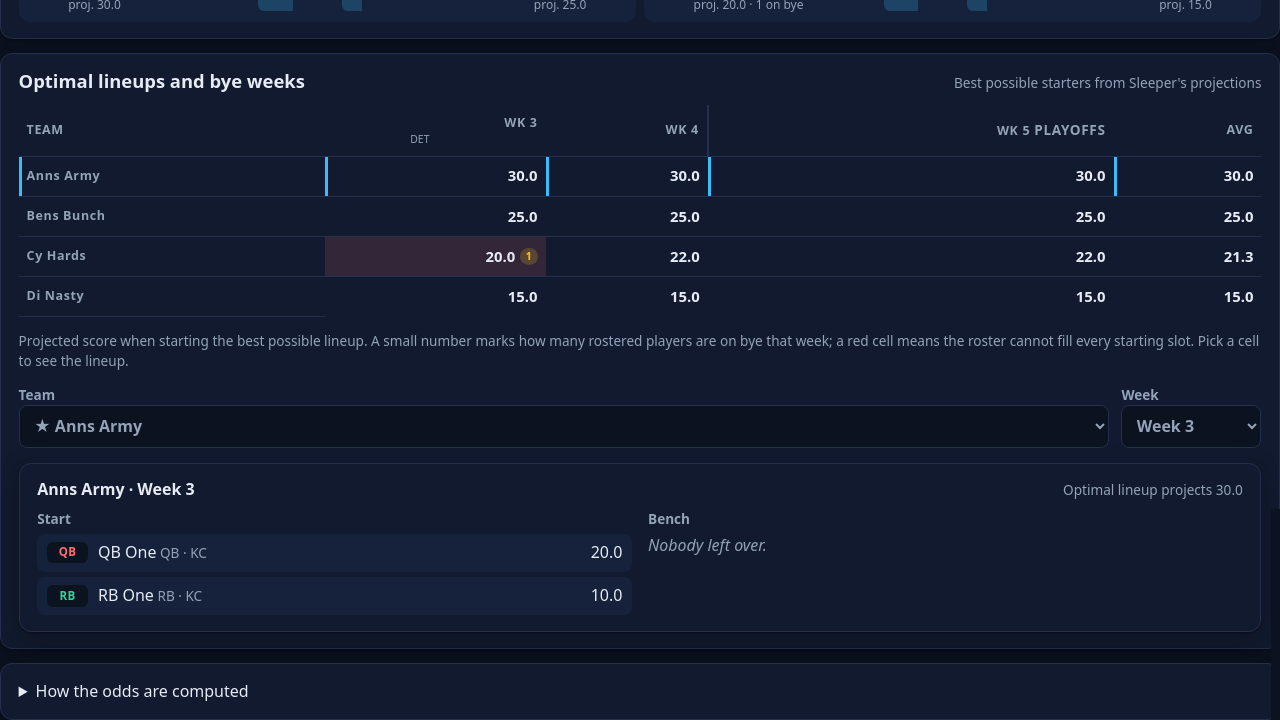
PlayoffOddsApp › shows odds, the next week, and the selected lineup
(page scrolled)
expect the heading "Anns Army · Week 3" is shown: met, box [37, 480, 195, 499]
expect the text "QB One" is shown: met, box [98, 541, 156, 563]
Note: Switching to the team with a bye shows the empty slot.
Step 1. Select "Cy Hards" in the dropdown labelled "Team" → (564, 426), box [19, 405, 1109, 448]
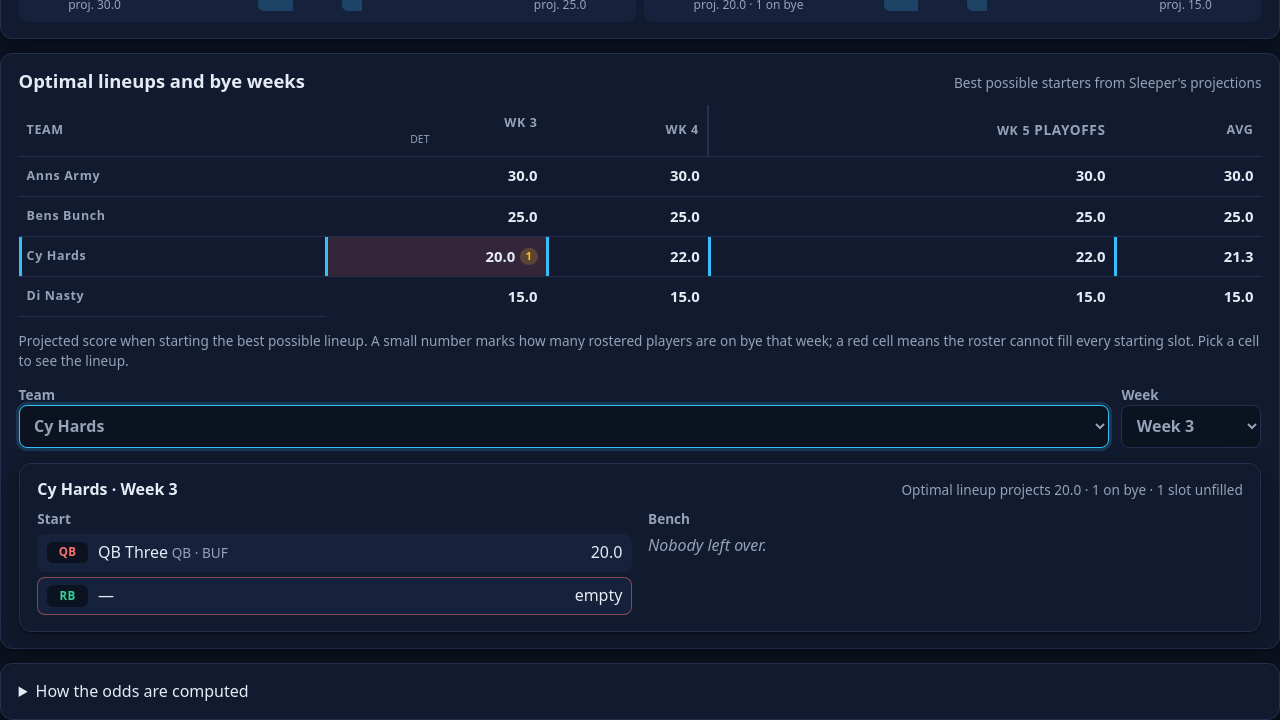
expect the heading "Cy Hards · Week 3" is shown: met, box [37, 480, 178, 499]
expect the text "Optimal lineup projects 20.0 · 1 on bye · 1 slot unfilled" is shown: met, box [902, 480, 1243, 499]
expect the text "empty" is shown: met, box [575, 584, 622, 608]
